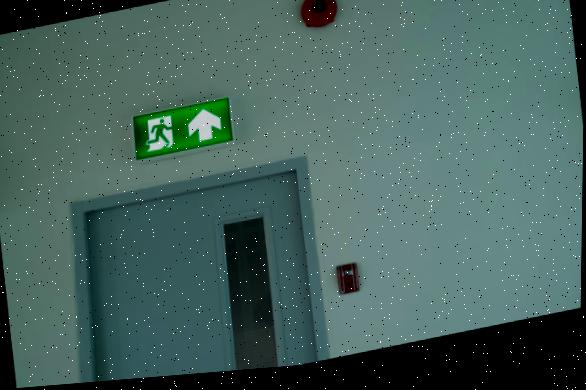emergency_exit: (132, 96, 234, 160)
